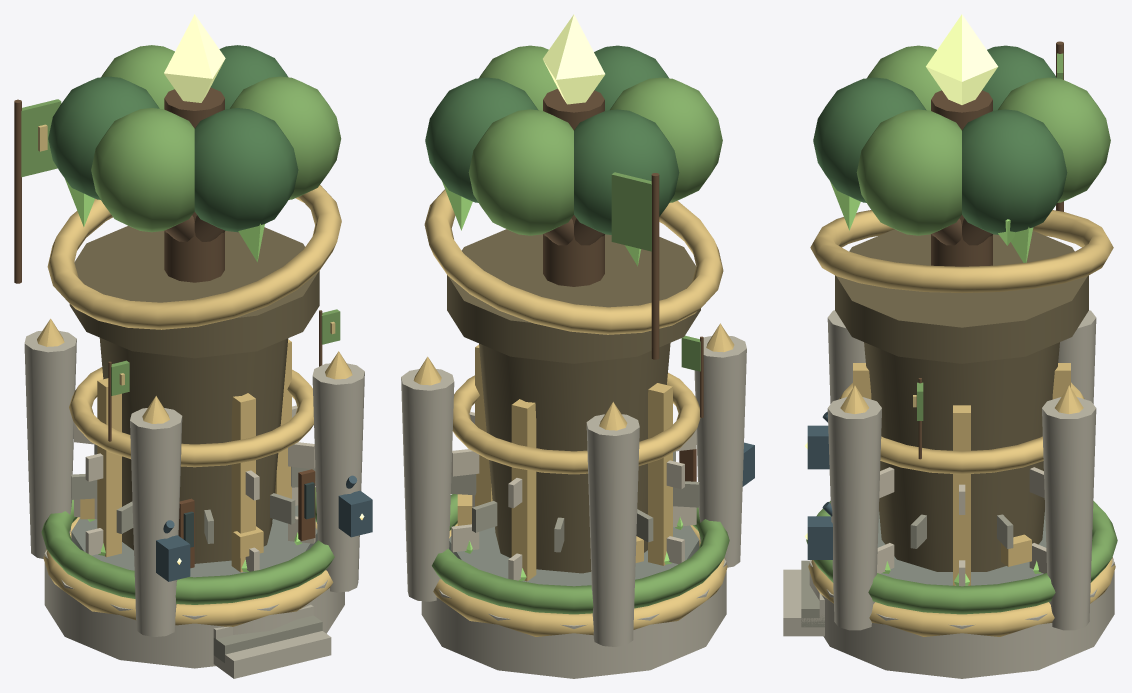
File: tower-nature-3-0.glb
3 views of the same model, side by side, from view 1: azimuth 30°, elevation 25°; view 2: azimuth 150°, elevation 25°; view 3: azimuth 270°, elevation 25° (orthographic).
Visible parts, largest first — view 1: Foundation, Turret, nature-L3-0; view 2: Foundation, Turret, nature-L3-0; view 3: Foundation, Turret, nature-L3-0.
Boxes of the visible parts, left/top/right/bottom form: Foundation: left=14, top=99, right=372, bottom=678; Turret: left=47, top=14, right=341, bottom=358; nature-L3-0: left=44, top=505, right=344, bottom=668; Foundation: left=401, top=172, right=754, bottom=646; Turret: left=424, top=14, right=723, bottom=363; nature-L3-0: left=421, top=525, right=726, bottom=678; Foundation: left=783, top=41, right=1117, bottom=636; Turret: left=810, top=14, right=1113, bottom=363; nature-L3-0: left=809, top=510, right=1114, bottom=678.
Size of the model in its own units: 1.72 by 3.65 by 1.84.
